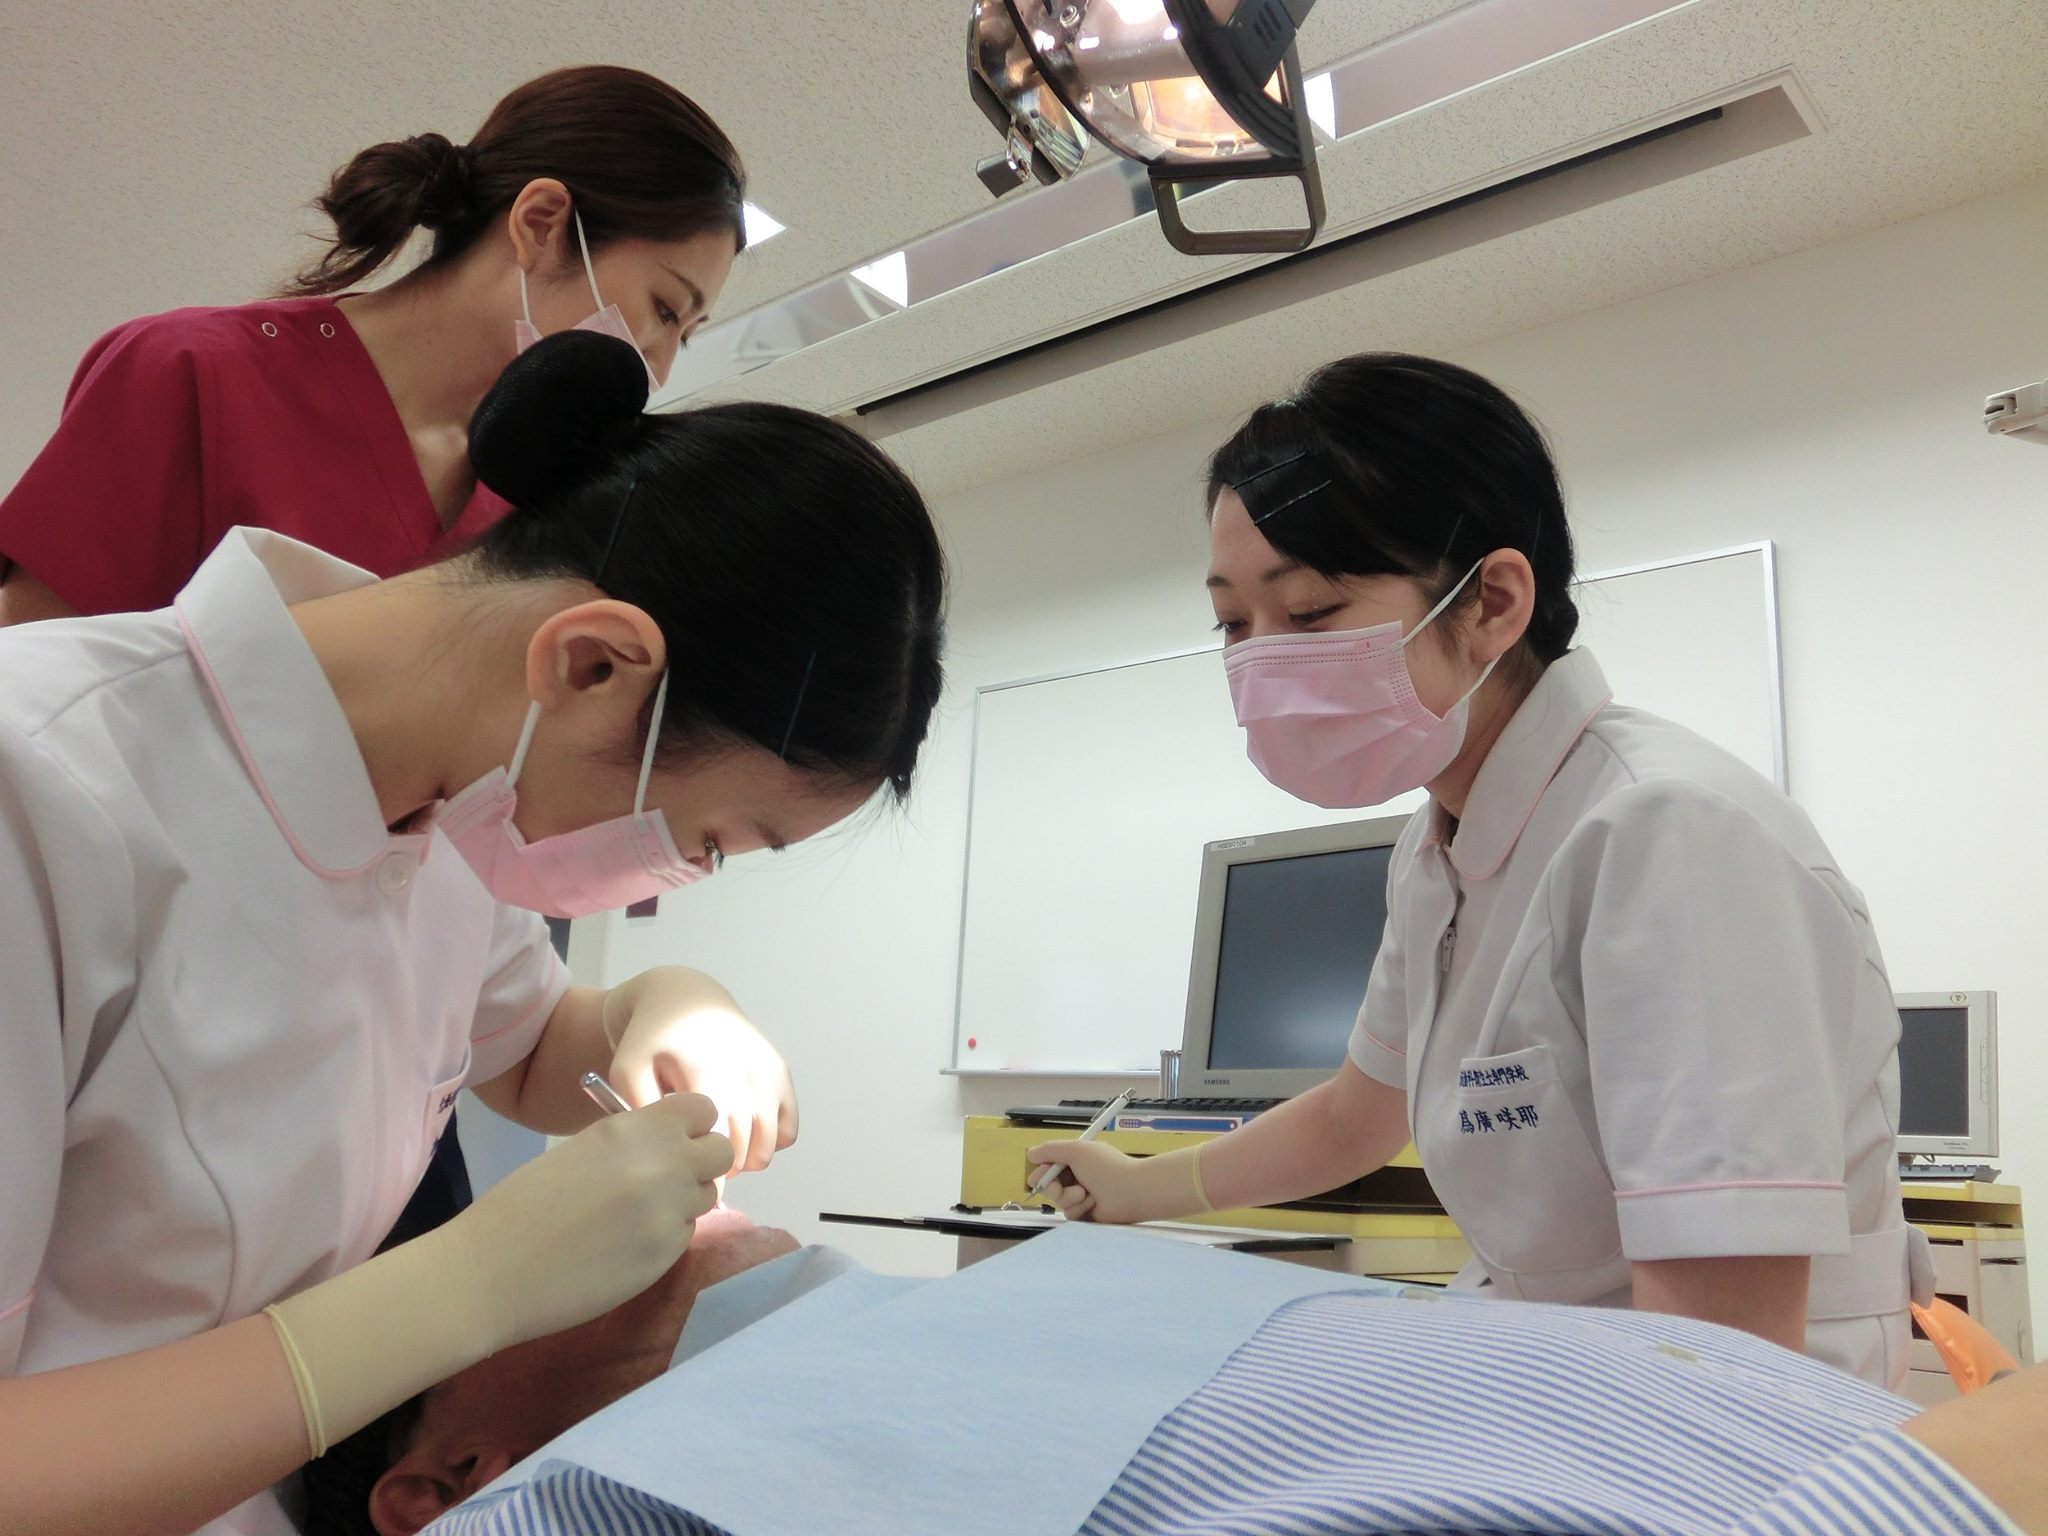mask: (1229, 623, 1477, 813), (431, 774, 708, 921)
